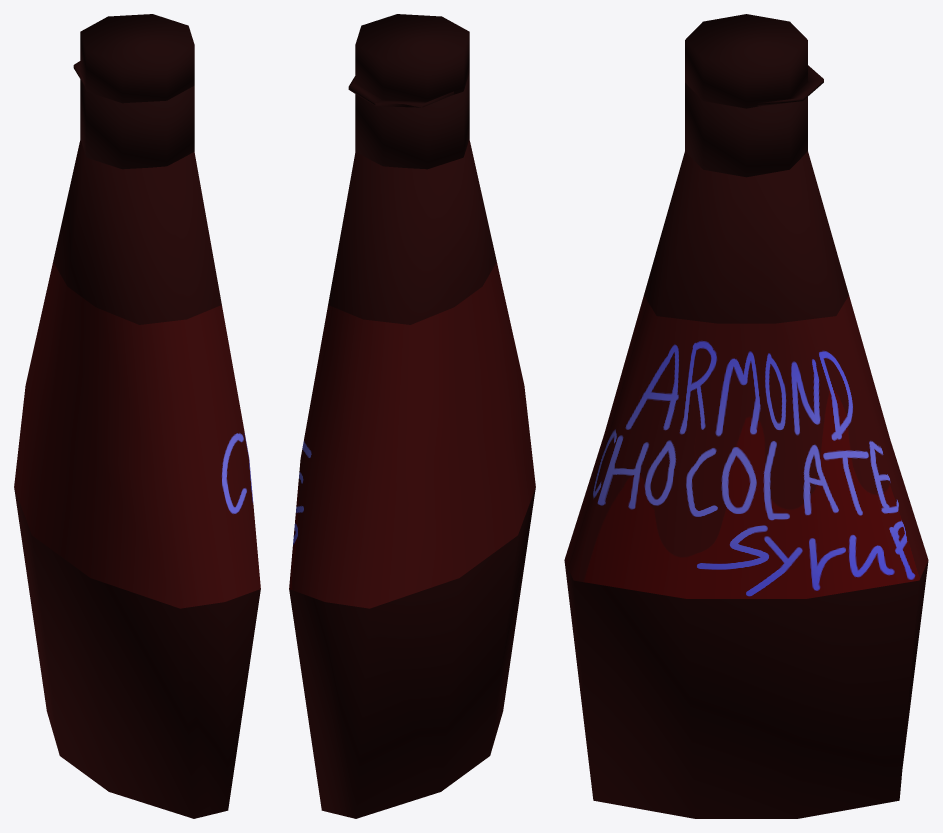
Rendered from ALMONDCHOCOLATEsyrup2.glb.
3 views of the same model, side by side, from view 1: azimuth 30°, elevation 25°; view 2: azimuth 150°, elevation 25°; view 3: azimuth 270°, elevation 25° (orthographic). The views are drawn at different scales.
Visible parts, largest first — view 1: 円柱.002; view 2: 円柱.002; view 3: 円柱.002.
Boxes of the visible parts, x1,y1,x2,y2 form: 円柱.002: (14, 14, 260, 818); 円柱.002: (289, 14, 535, 818); 円柱.002: (564, 14, 928, 818).
Bounding box in the file's own units: 2.98 × 13.5 × 5.93.
Materials: 3 (1 with a texture image).
